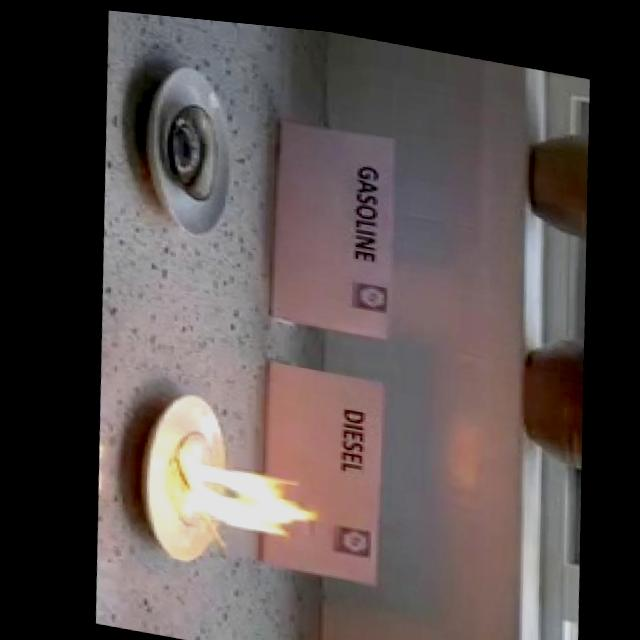Fire: (157, 436, 322, 543)
